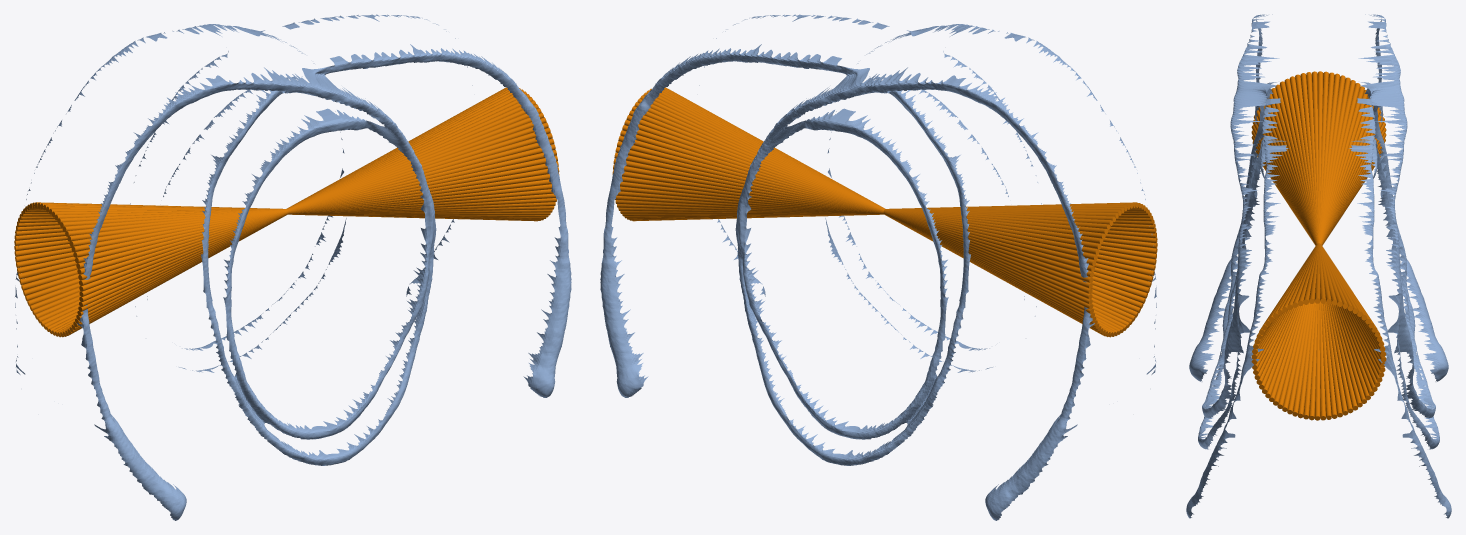
File: A20024964_5995-37-531-2353_DigitalTwin.glb
The picture shows the model from 3 angles, left to right: view 1: azimuth 30°, elevation 25°; view 2: azimuth 150°, elevation 25°; view 3: azimuth 270°, elevation 25°; orthographic projection. The views are drawn at different scales.
Visible parts, largest first — view 1: world; view 2: world; view 3: world.
Boxes of the visible parts, left/top/right/bottom form: world: left=14, top=14, right=571, bottom=520; world: left=600, top=14, right=1157, bottom=520; world: left=1186, top=14, right=1451, bottom=518.
Bounding box in the file's own units: 384 × 307 × 189.
